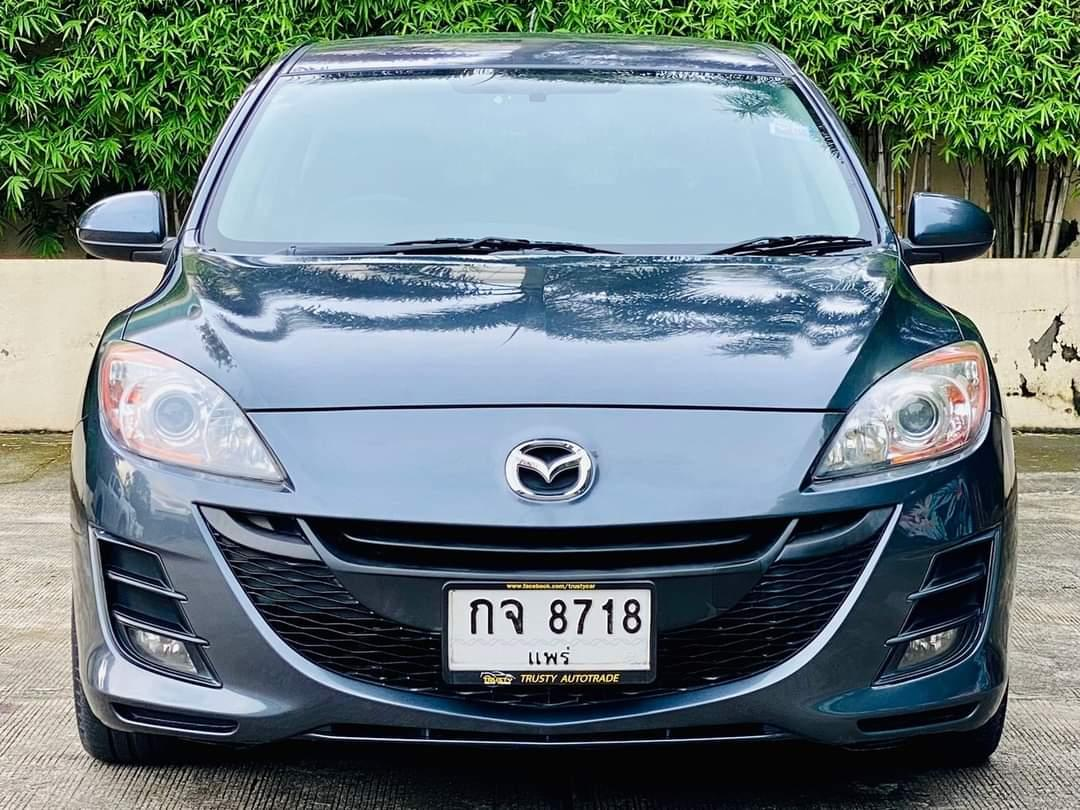license-plate: (439, 579, 661, 689)
